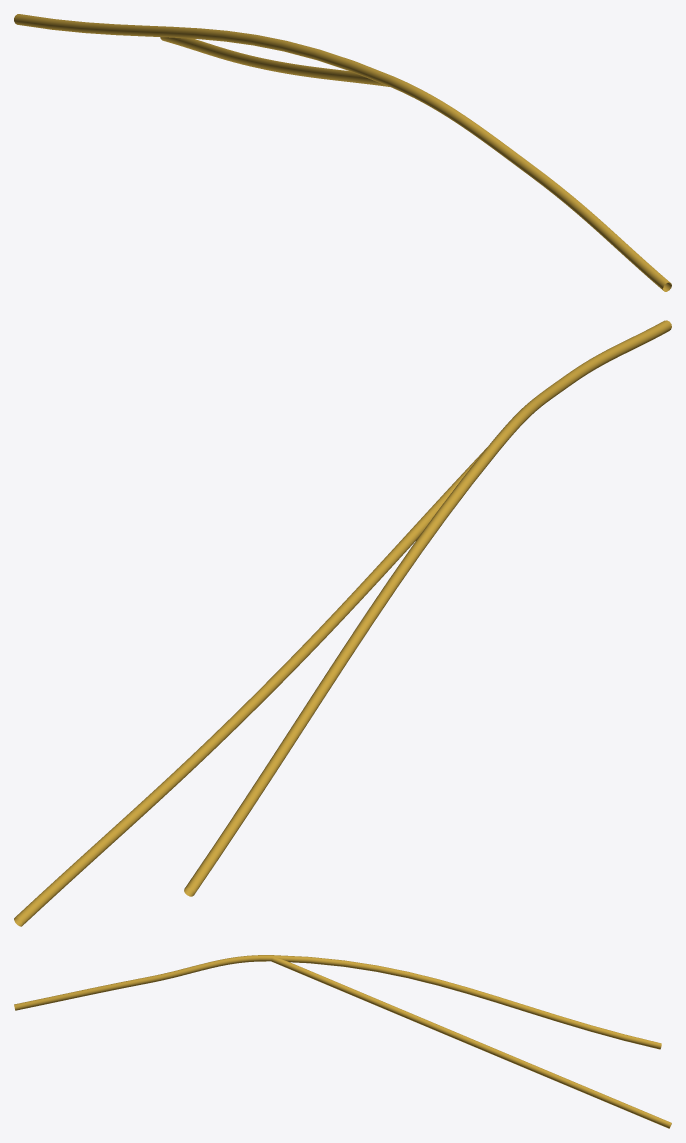
3 views of the same model, one above another, from view 1: azimuth 30°, elevation 25°; view 2: azimuth 150°, elevation 25°; view 3: azimuth 270°, elevation 25° (orthographic). The views are drawn at different scales.
Parts seen in each view (by area): view 1: 右侧尺神经手背支; view 2: 右侧尺神经手背支; view 3: 右侧尺神经手背支.
Boxes of the visible parts, x1,y1,x2,y2 form: 右侧尺神经手背支: (14,14,671,291); 右侧尺神经手背支: (14,320,671,926); 右侧尺神经手背支: (14,955,671,1128).
Bounding box in the file's own units: 0.0252 × 0.0355 × 0.1494.
